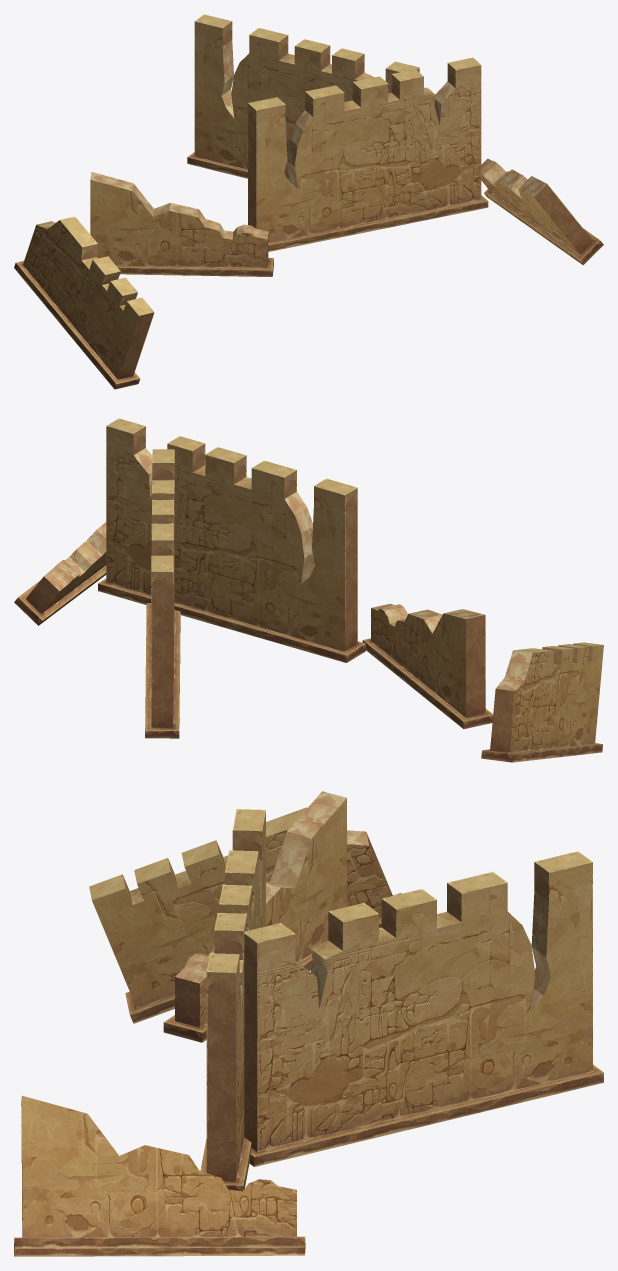
File: Area_09_9.fbx
3 views of the same model, one above another, from view 1: azimuth 30°, elevation 25°; view 2: azimuth 150°, elevation 25°; view 3: azimuth 270°, elevation 25° (orthographic). The views are drawn at different scales.
Visible parts, largest first — view 1: Area_09_9; view 2: Area_09_9; view 3: Area_09_9.
Boxes of the visible parts, bbox=[...] form: Area_09_9: bbox=[14, 14, 603, 389]; Area_09_9: bbox=[14, 418, 603, 762]; Area_09_9: bbox=[14, 791, 603, 1256].
Bounding box in the file's own units: 1915 × 838 × 1363.
